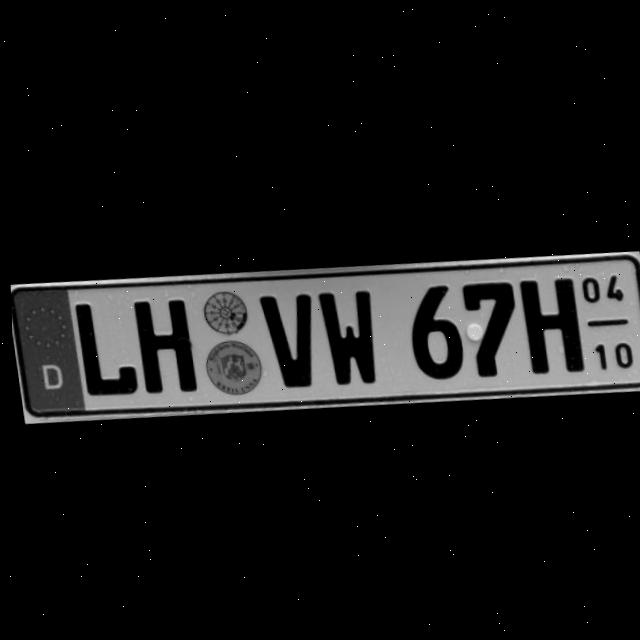license-plates: (11, 253, 640, 424)
